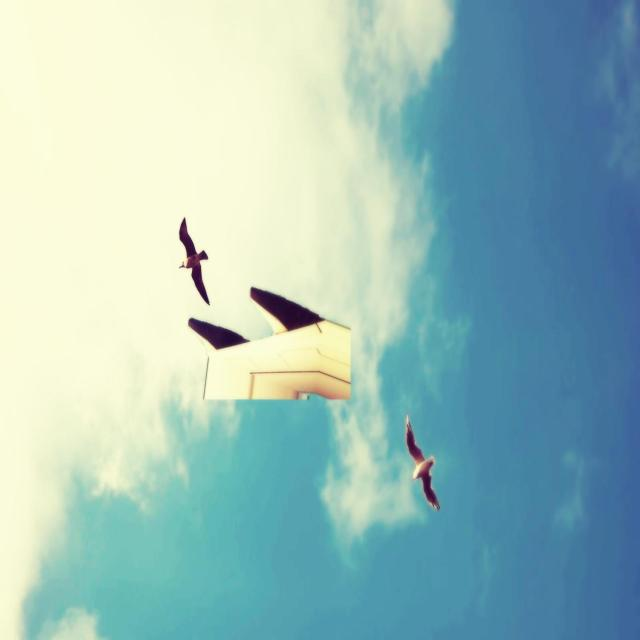airplane: (188, 285, 352, 401)
